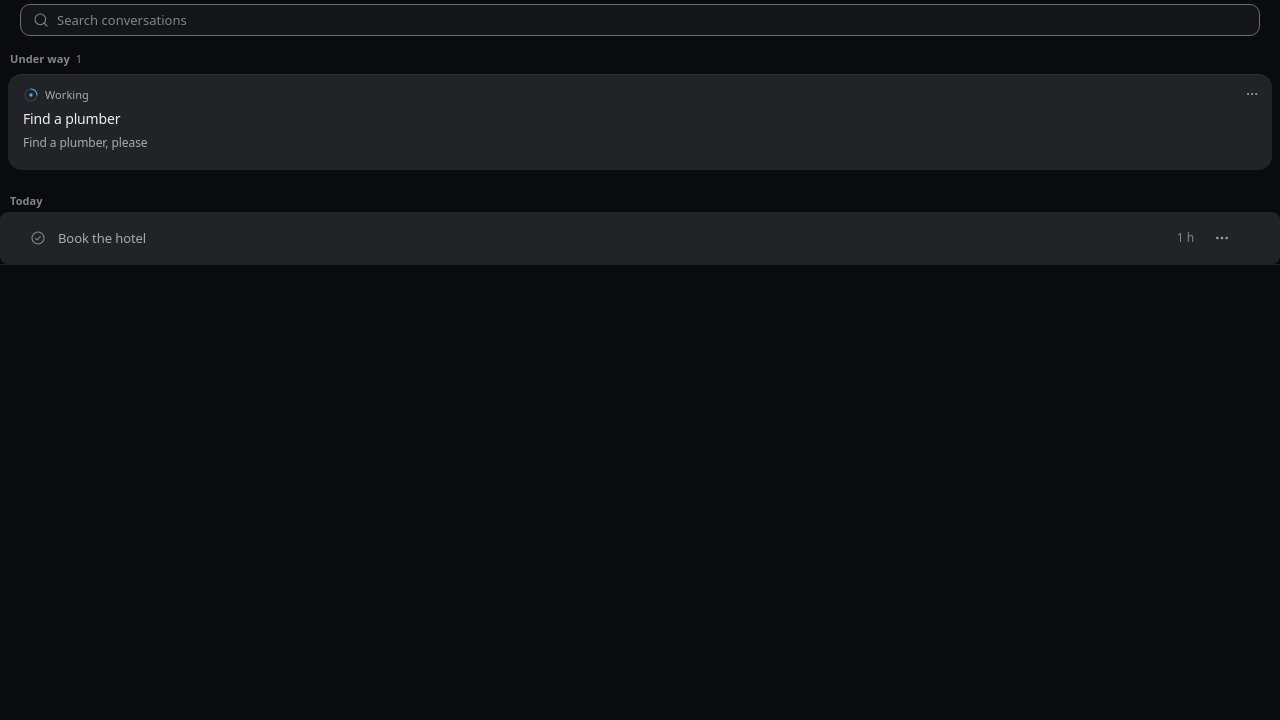
Test: the phone's conversations › gives every row and card a button for what its gestures do
This screenshot has width=1280, height=720.
Click the button named "Actions for ": (1222, 238) left=1208, top=224, right=1236, bottom=252
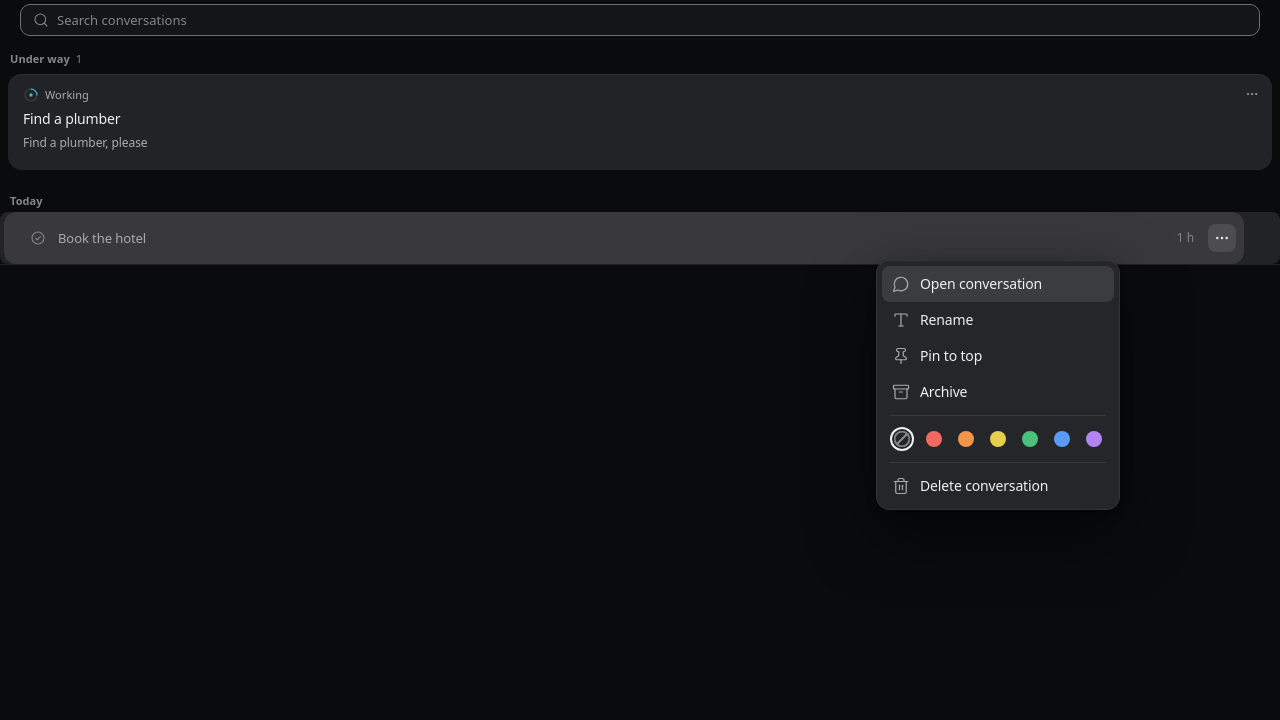
Expected: the menu item "Pin to top" is shown, left=882, top=338, right=1114, bottom=374
Expected: the menu item "Archive" is shown, left=882, top=374, right=1114, bottom=410
Expected: the element named "Tag" is shown, left=882, top=421, right=1114, bottom=457
